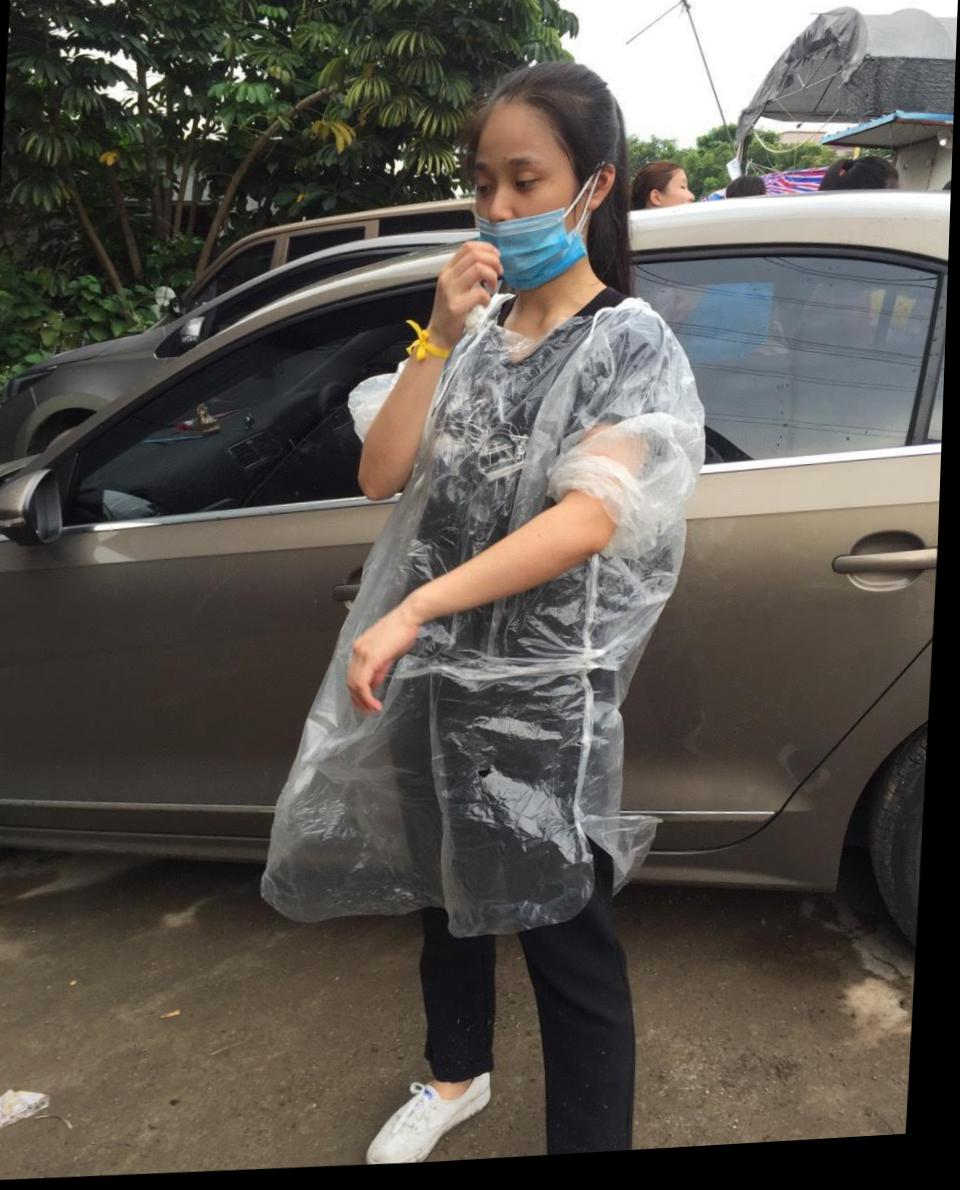NONE: (651, 179, 704, 235)
WRONG: (466, 135, 595, 284)
